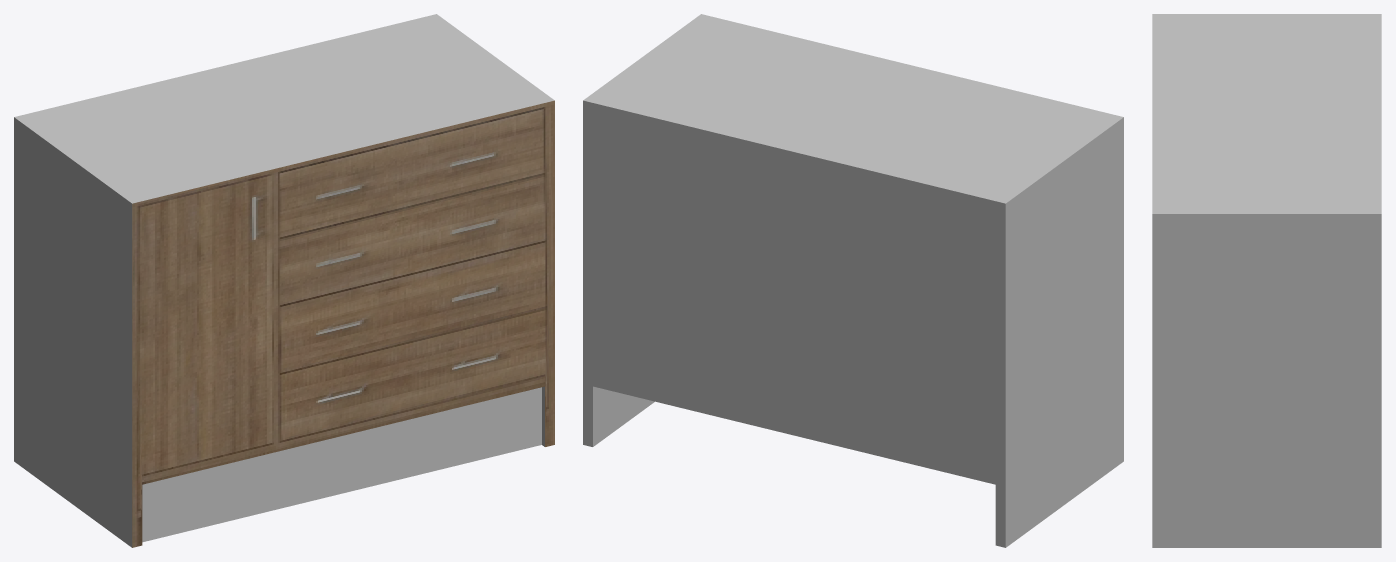
The model's file is Drawer.fbx.
3 renders of one model, left to right at view 1: azimuth 30°, elevation 25°; view 2: azimuth 150°, elevation 25°; view 3: azimuth 270°, elevation 25°, orthographic. The views are drawn at different scales.
Visible parts, largest first — view 1: Куб; view 2: Куб; view 3: Куб.
Part boxes in pixels (x1=…): Куб: x1=14, y1=14, x2=554, y2=547; Куб: x1=583, y1=14, x2=1123, y2=547; Куб: x1=1152, y1=14, x2=1381, y2=547.
Bounding box in the file's own units: 34.37 × 26.75 × 16.65.
